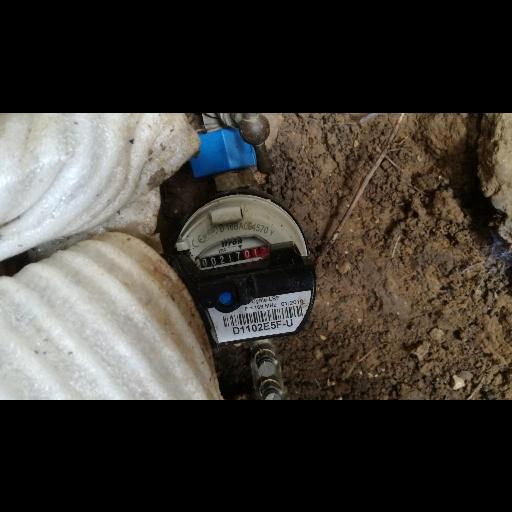0: (242, 247, 252, 259), (199, 257, 209, 268), (207, 255, 217, 266)
1: (225, 251, 236, 263), (251, 246, 262, 258)
2: (216, 253, 227, 265)
5: (260, 244, 271, 258)
7: (233, 251, 243, 262)
border_water_meter_number: (198, 243, 273, 271)
